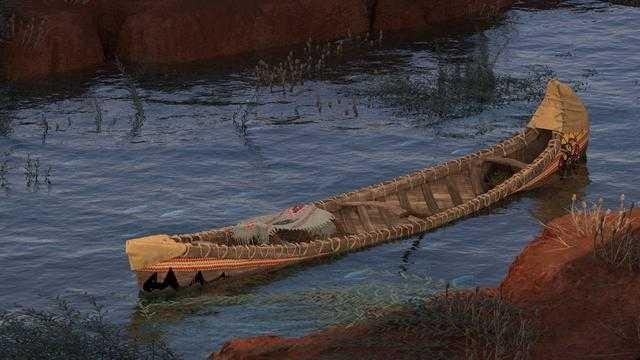kayak: (123, 77, 590, 300)
